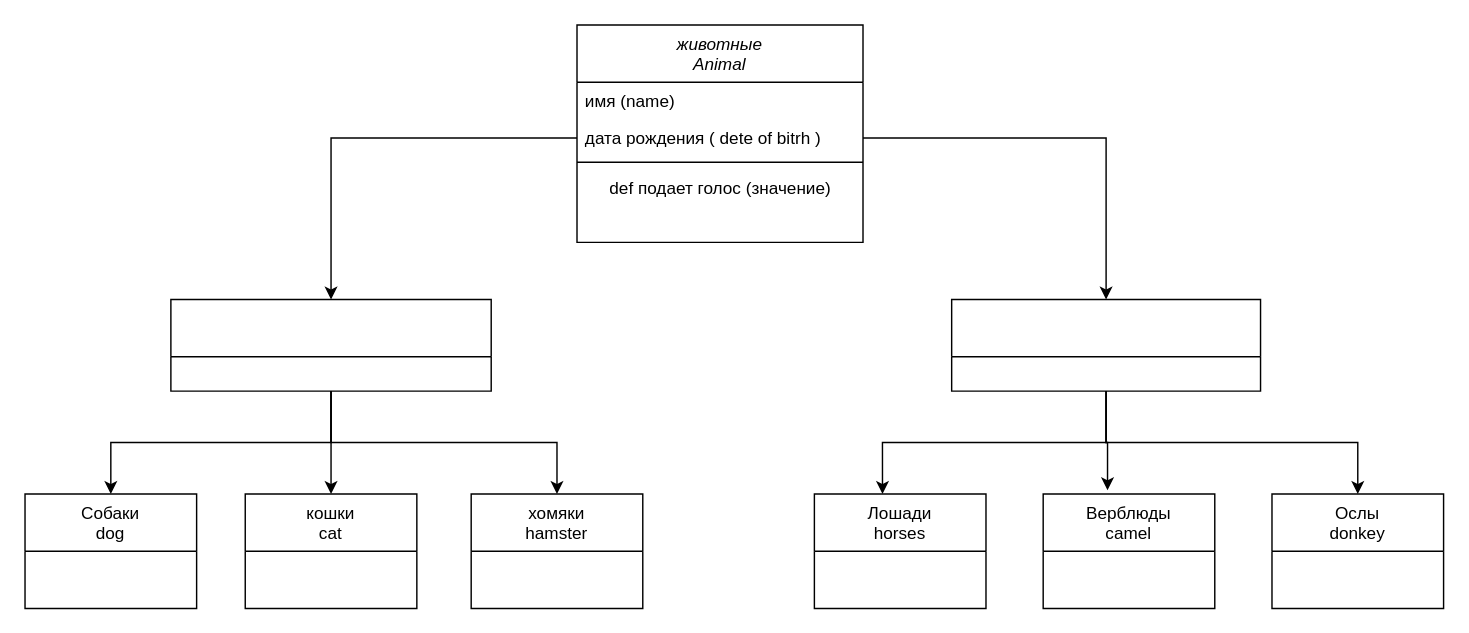
Image size: 1469x633. Some labels were removed from this diagram. Here are the shapes that lost their labels. From the top down, the centre of each, then its label:
At point (330, 344): "домашние животные human_friends".
At point (1105, 344): "вьючные животные vyuchnie_zivotvie".
